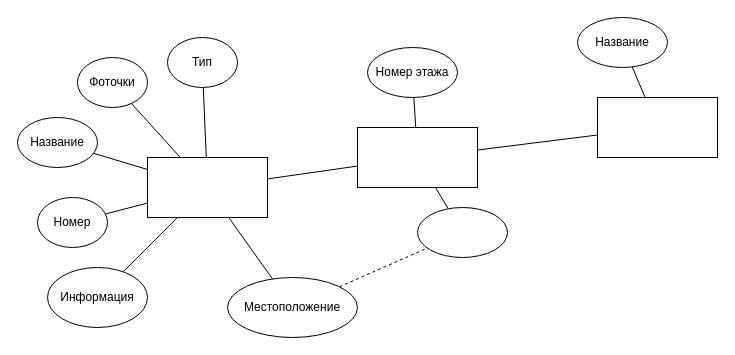
This 735x355 diagram has some shape labels left out. The shapes that lost their labels are listed below. From the top down, each one's centre as x and y in pixels, then its label:
(657,127): Корпус
(417,157): Этаж
(207,187): Аудитория
(462,232): Карта
